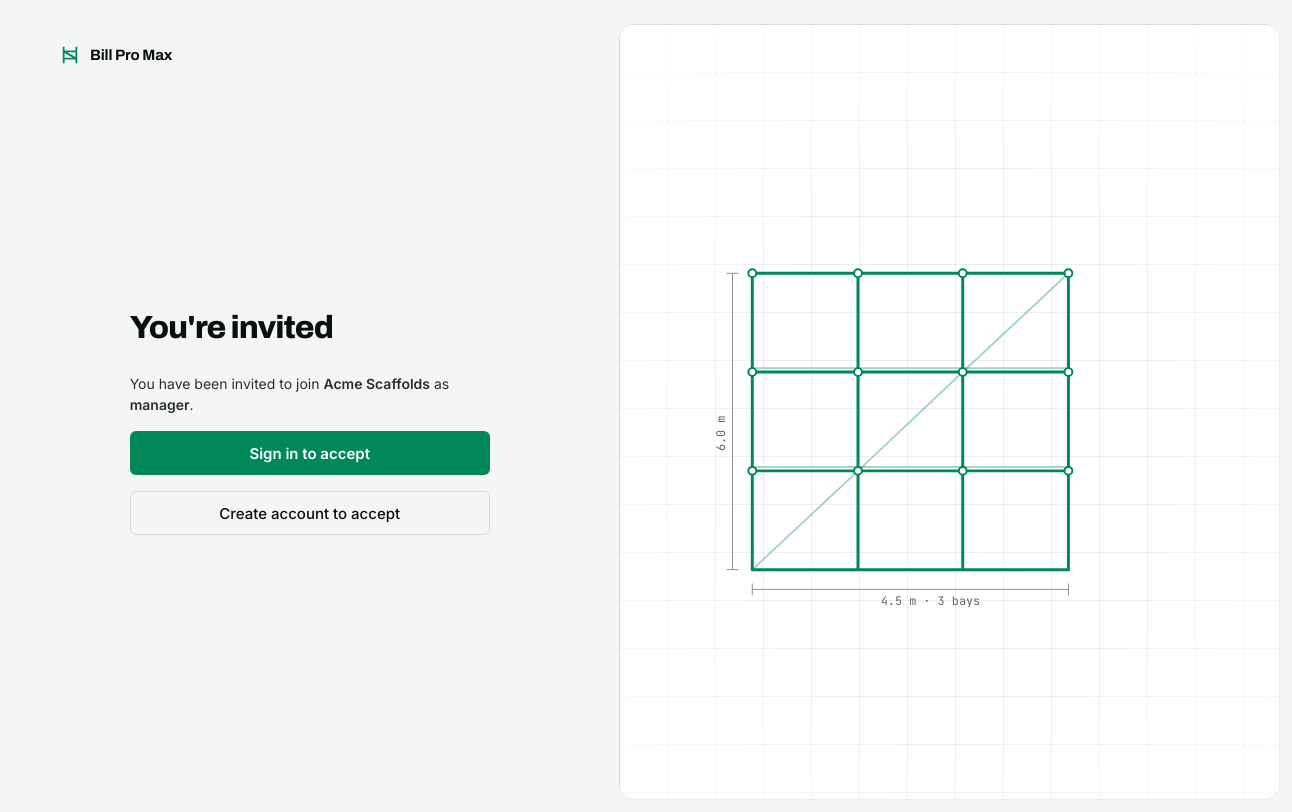
Test: InvitationAcceptPage › sends signed-out visitors to sign in
The image size is (1292, 812).
What coordinates should you click on to do the following:
click the button "Sign in to accept"
I would click on:
 (310, 453)
Its box is [130, 431, 490, 475].
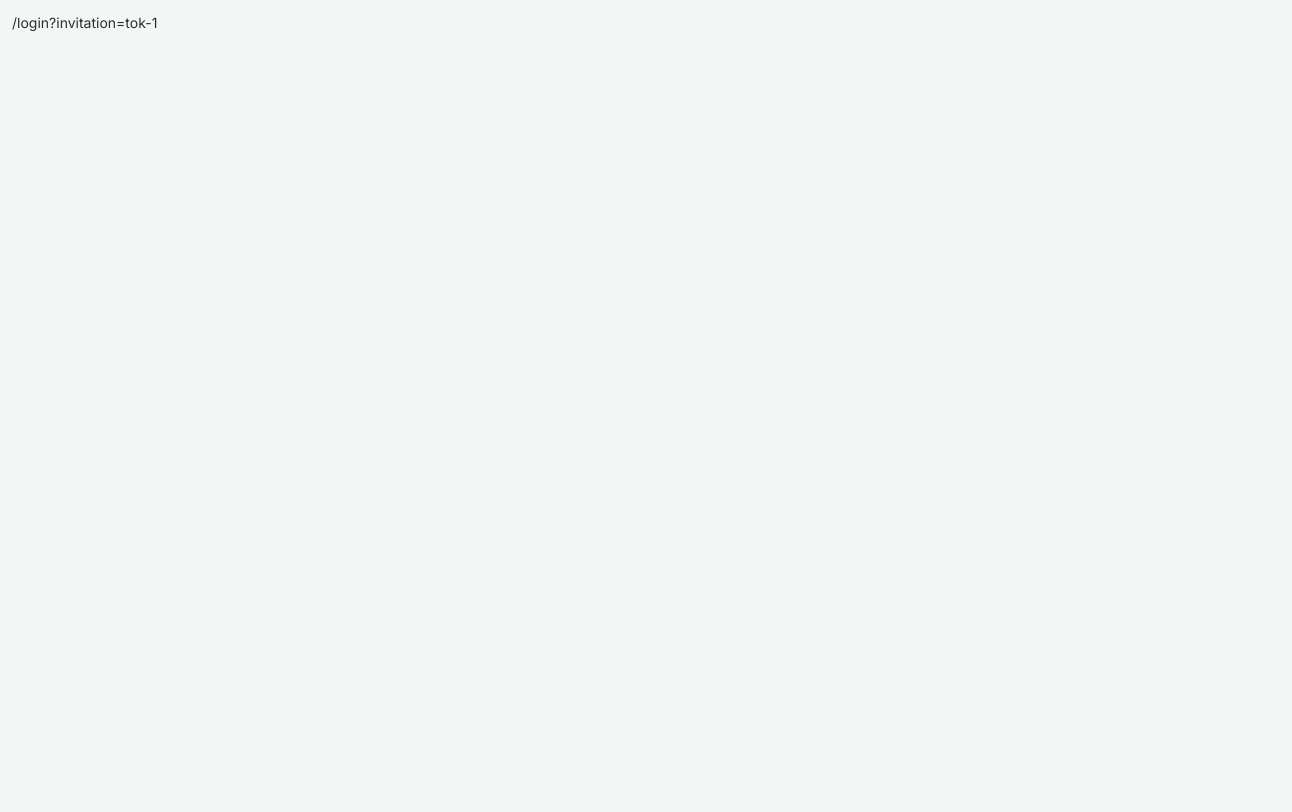
Expected: the text with test id "where" reads "/login?invitation=tok-1", [12, 14, 157, 31]
